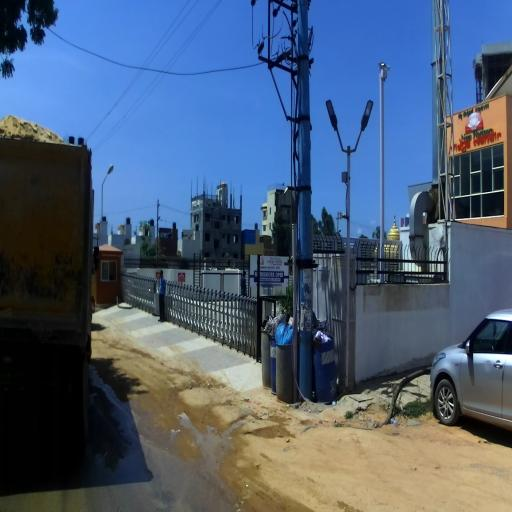street_light_0: (102, 164, 114, 189)
